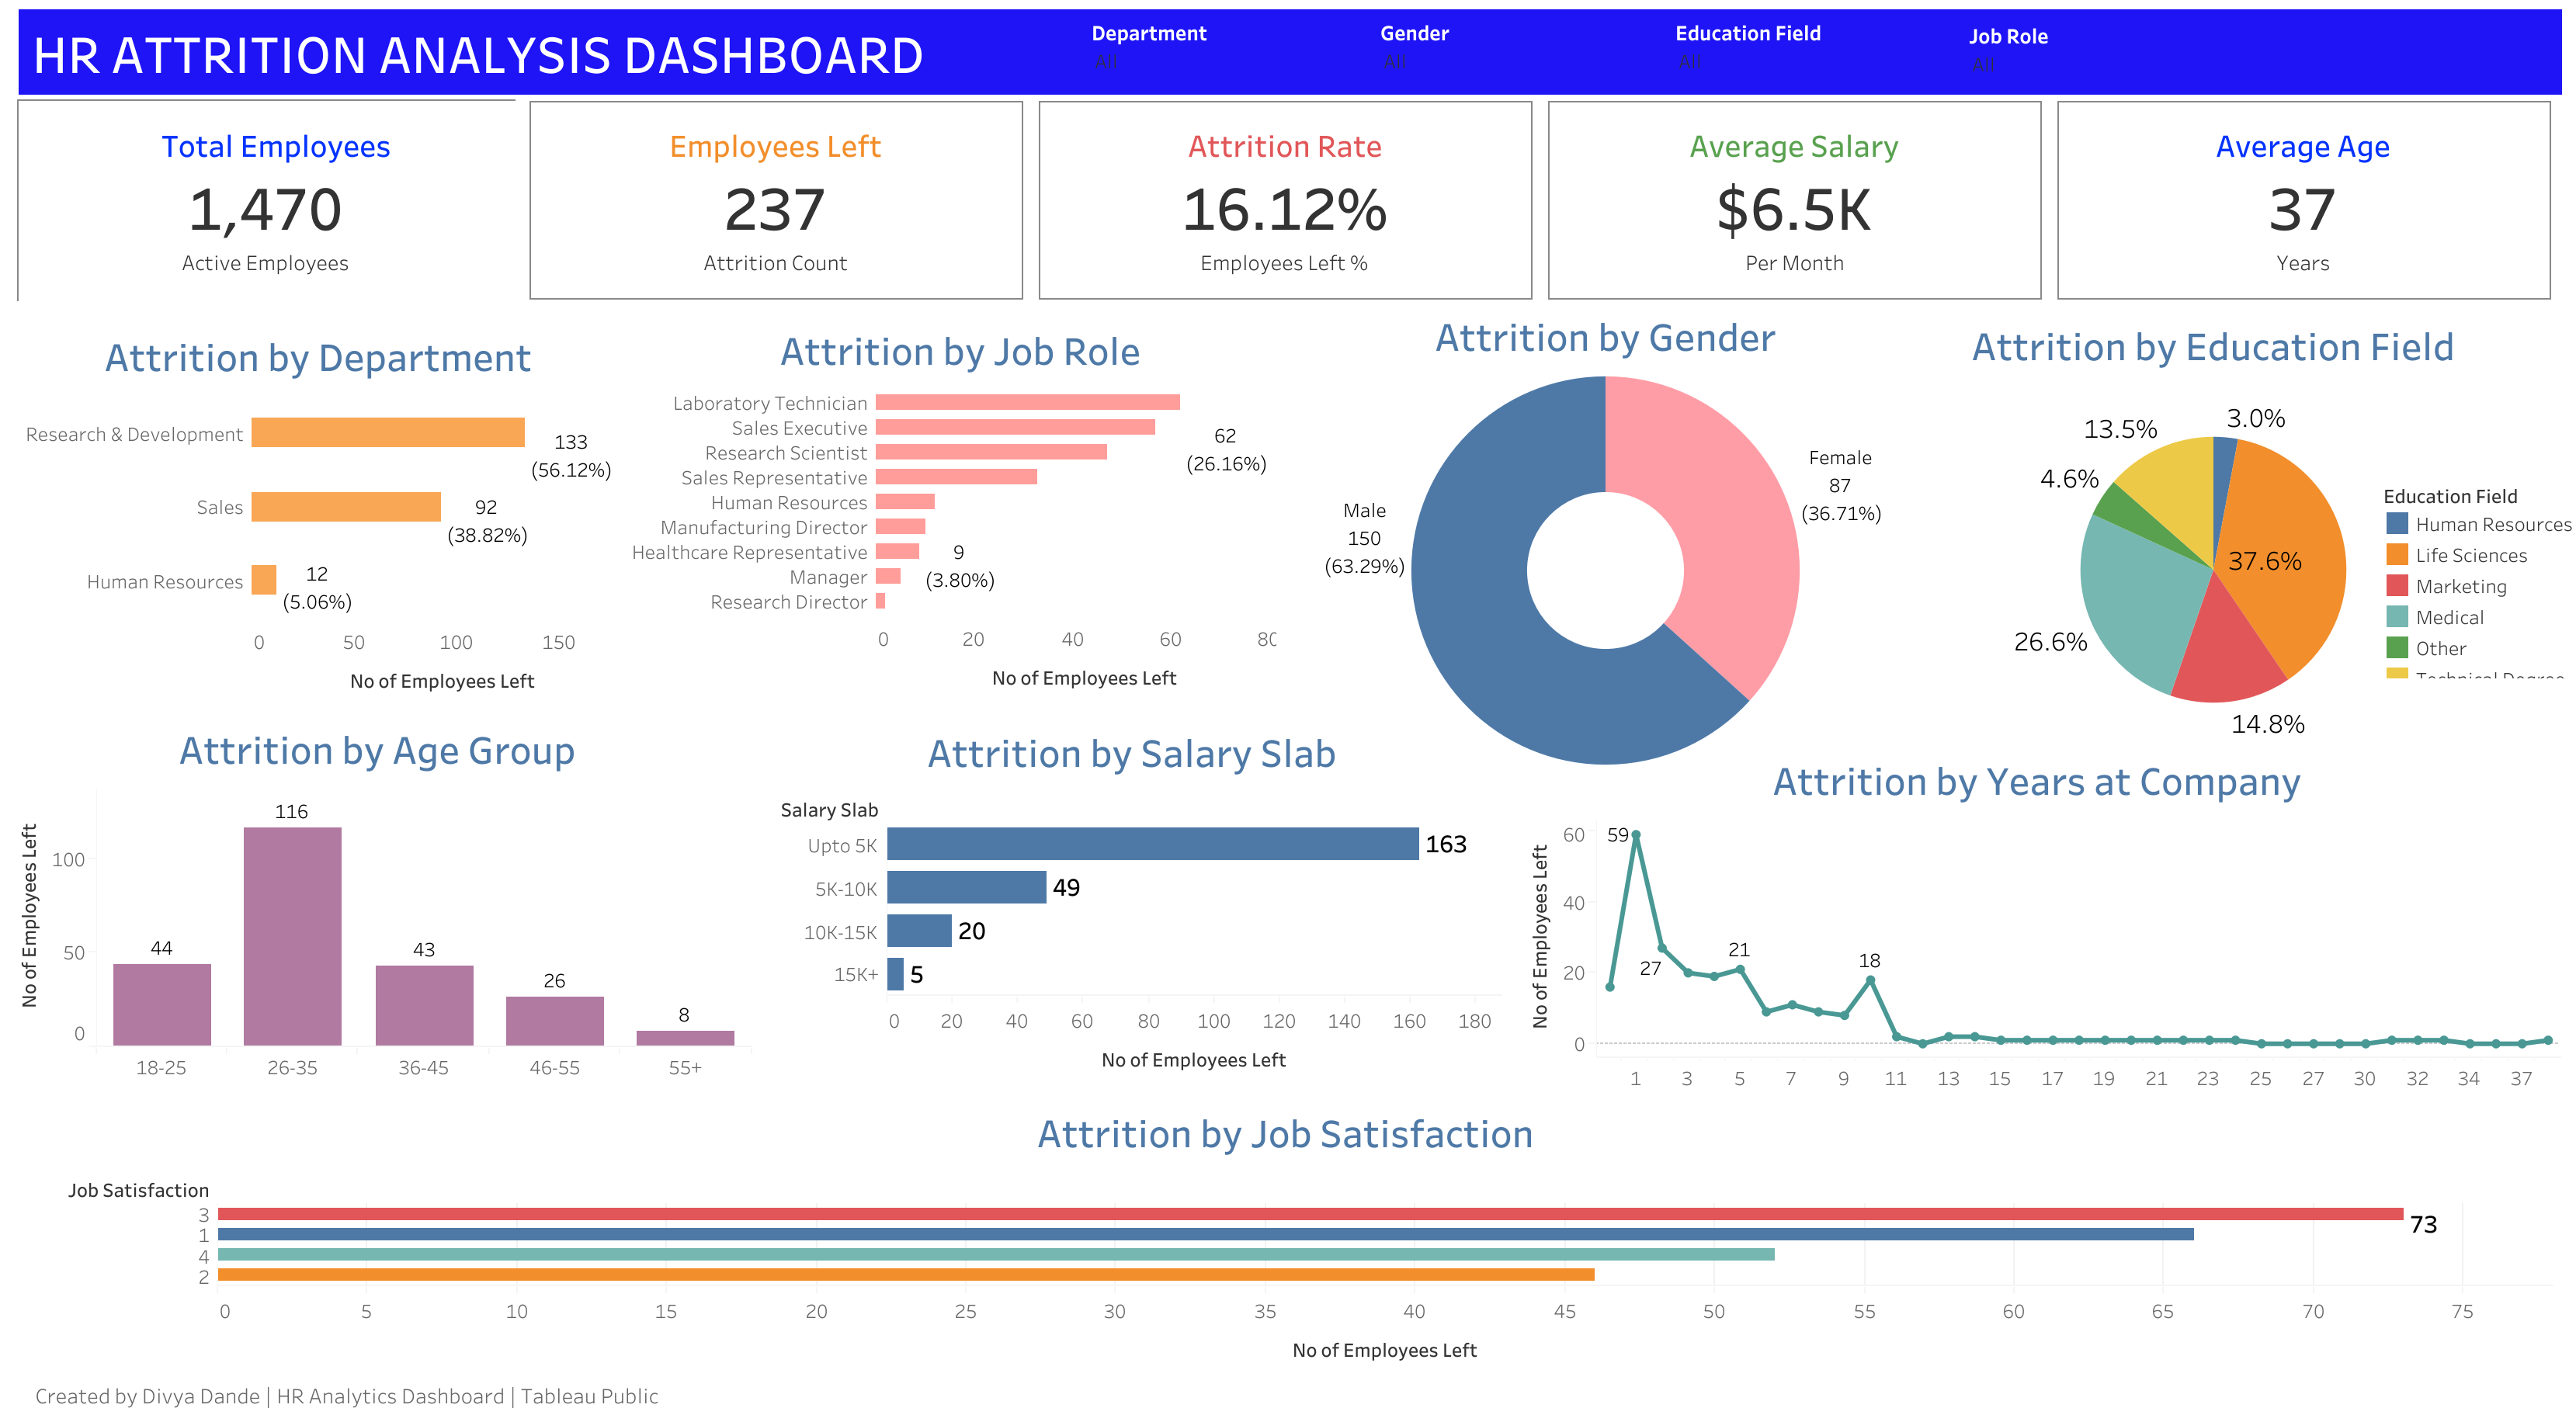

Layout of this report page (visuals, bound fields, positions):
{"tool":"tableau","page":{"name":"Dashboard 1","canvas":[1000,1000],"units":"permille","ordinal":0},"visuals":[{"type":"filter","title":"ATTRITION BY DEPARTMENT","param":"[federated.11uvq7c0wkbjpp1cyt2w80pj8mvb].[none:Department:nk]","box":[423.3,11.2,107.3,47.9]},{"type":"filter","title":"ATTRITION BY GENDER","param":"[federated.11uvq7c0wkbjpp1cyt2w80pj8mvb].[none:Gender:nk]","box":[535.3,11.2,107.3,48.9]},{"type":"filter","title":"ATTRITION BY EDUCATION FIELD","param":"[federated.11uvq7c0wkbjpp1cyt2w80pj8mvb].[none:EducationField:nk]","box":[650,11.2,107.3,50]},{"type":"filter","title":"ATTRITION BY JOB ROLE","param":"[federated.11uvq7c0wkbjpp1cyt2w80pj8mvb].[none:JobRole:nk]","box":[764,13.2,107.3,46.9]},{"type":"text","box":[10.7,16.3,417.2,40.8]},{"type":"worksheet","title":"TOTAL EMPLOYEES","mark":"Text","box":[4,65.2,198,150.9]},{"type":"worksheet","title":"EMPLOYEES LEFT","mark":"Automatic","box":[202,65.2,198,150.9]},{"type":"worksheet","title":"ATTRITION RATE","mark":"Automatic","box":[400,65.2,198,150.9]},{"type":"worksheet","title":"AVERAGE SALARY","mark":"Automatic","box":[598,65.2,197.3,150.9]},{"type":"worksheet","title":"AVERAGE AGE","mark":"Automatic","box":[795.3,65.2,197.3,150.9]},{"type":"worksheet","title":"ATTRITION BY GENDER","mark":"Pie","cols":["Calculation_0110246249824260","Calculation_0110246249824260"],"box":[495.3,211,255.3,326.2]},{"type":"worksheet","title":"ATTRITION BY EDUCATION FIELD","mark":"Pie","box":[737.3,217.1,242.7,312.9]},{"type":"worksheet","title":"ATTRITION BY JOB ROLE","mark":"Automatic","rows":["JobRole"],"cols":["Calculation_0090592110886912"],"box":[243.3,220.2,258.7,273.2]},{"type":"worksheet","title":"ATTRITION BY DEPARTMENT","mark":"Automatic","rows":["Department"],"cols":["Calculation_0090592110886912"],"box":[1.3,224.3,244.7,271.1]},{"type":"legend","title":"ATTRITION BY EDUCATION FIELD","param":"[federated.11uvq7c0wkbjpp1cyt2w80pj8mvb].[none:EducationField:nk]","box":[924.2,336.4,76.5,140.7]},{"type":"worksheet","title":"ATTRITION BY AGE GROUP","mark":"Automatic","rows":["Calculation_0090592110886912"],"cols":["Calculation_0090592127029250"],"box":[1.3,500.5,290.4,258.9]},{"type":"worksheet","title":"Attrition by Years at Company","mark":"Line","rows":["Calculation_0090592110886912"],"cols":["YearsAtCompany"],"box":[587.3,501.5,406,265]},{"type":"worksheet","title":"Attrition by Salary Slab","mark":"Automatic","rows":["Calculation_0110246263898117"],"cols":["Calculation_0090592110886912"],"box":[296,502.6,286.7,258.9]},{"type":"worksheet","title":"Attrition by Job Satisfaction","mark":"Automatic","rows":["JobSatisfaction"],"cols":["Calculation_0090592110886912"],"box":[7.3,769.6,983.3,195.7]},{"type":"text","box":[12.1,964.3,957.8,30.6]}]}

Visuals, with their boxes on the dashboard's canvas, which has no fixed pixel size, in thousandths of its width and height (x1, y1, x2, y2). These are canvas units, not pixel positions in the 2576x1422 screenshot, which may show the page scaled, cropped or inside an application window:
"ATTRITION BY DEPARTMENT" filter: bbox=(423, 11, 531, 59)
"ATTRITION BY GENDER" filter: bbox=(535, 11, 643, 60)
"ATTRITION BY EDUCATION FIELD" filter: bbox=(650, 11, 757, 61)
"ATTRITION BY JOB ROLE" filter: bbox=(764, 13, 871, 60)
text: bbox=(11, 16, 428, 57)
"TOTAL EMPLOYEES" worksheet (Text marks): bbox=(4, 65, 202, 216)
"EMPLOYEES LEFT" worksheet: bbox=(202, 65, 400, 216)
"ATTRITION RATE" worksheet: bbox=(400, 65, 598, 216)
"AVERAGE SALARY" worksheet: bbox=(598, 65, 795, 216)
"AVERAGE AGE" worksheet: bbox=(795, 65, 993, 216)
"ATTRITION BY GENDER" worksheet (Pie marks): bbox=(495, 211, 751, 537)
"ATTRITION BY EDUCATION FIELD" worksheet (Pie marks): bbox=(737, 217, 980, 530)
"ATTRITION BY JOB ROLE" worksheet: bbox=(243, 220, 502, 493)
"ATTRITION BY DEPARTMENT" worksheet: bbox=(1, 224, 246, 495)
"ATTRITION BY EDUCATION FIELD" legend: bbox=(924, 336, 1001, 477)
"ATTRITION BY AGE GROUP" worksheet: bbox=(1, 500, 292, 759)
"Attrition by Years at Company" worksheet (Line marks): bbox=(587, 502, 993, 766)
"Attrition by Salary Slab" worksheet: bbox=(296, 503, 583, 762)
"Attrition by Job Satisfaction" worksheet: bbox=(7, 770, 991, 965)
text: bbox=(12, 964, 970, 995)
